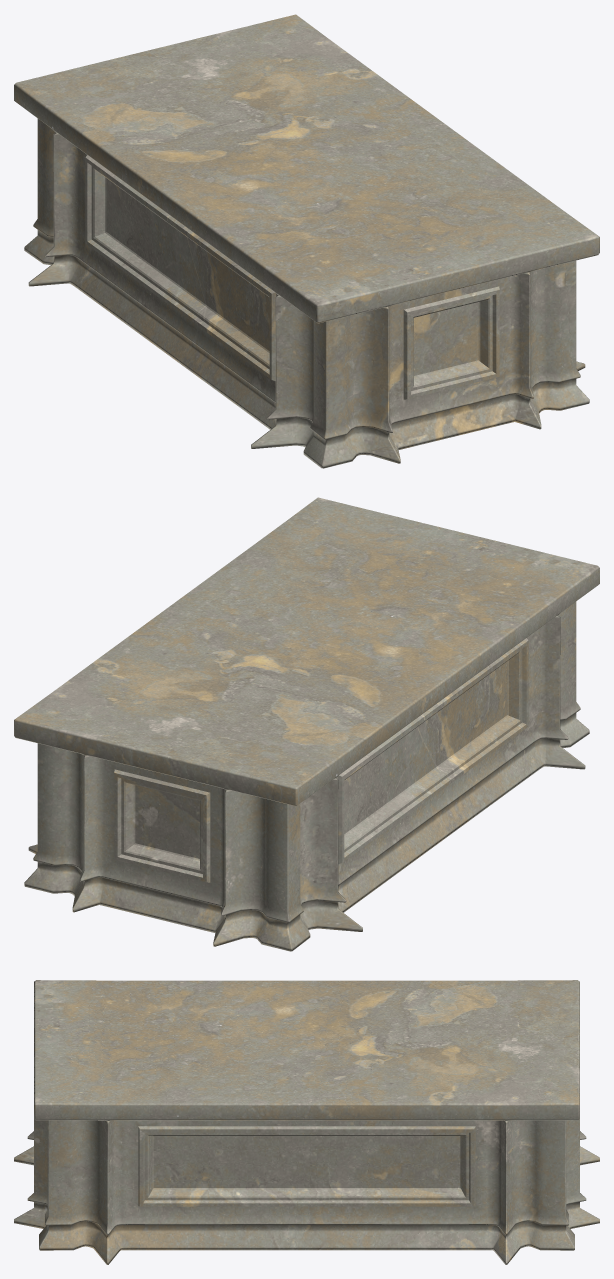
Rendered from SM_Altar.fbx.
3 views of the same model, one above another, from view 1: azimuth 30°, elevation 25°; view 2: azimuth 150°, elevation 25°; view 3: azimuth 270°, elevation 25° (orthographic). The views are drawn at different scales.
Parts seen in each view (by area): view 1: SM_Altar_LOD0; view 2: SM_Altar_LOD0; view 3: SM_Altar_LOD0.
Boxes of the visible parts, box(x1,y1,x2,y2) form: SM_Altar_LOD0: box(14, 14, 599, 468); SM_Altar_LOD0: box(14, 497, 599, 951); SM_Altar_LOD0: box(14, 980, 599, 1264).
Size of the model in its own units: 199 by 338 by 95.72.
Materials: 1 (1 with a texture image).
